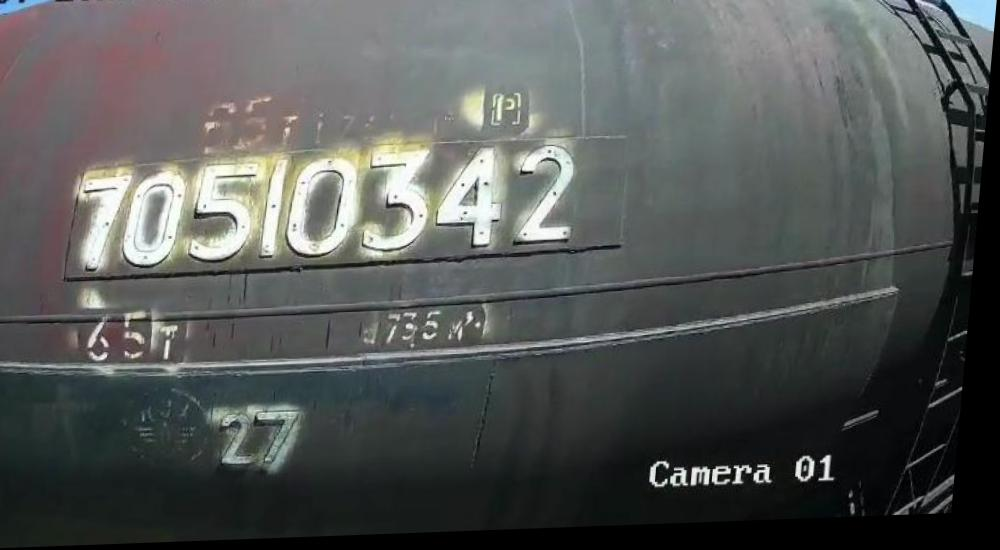Wagon-number: (75, 143, 597, 271)
